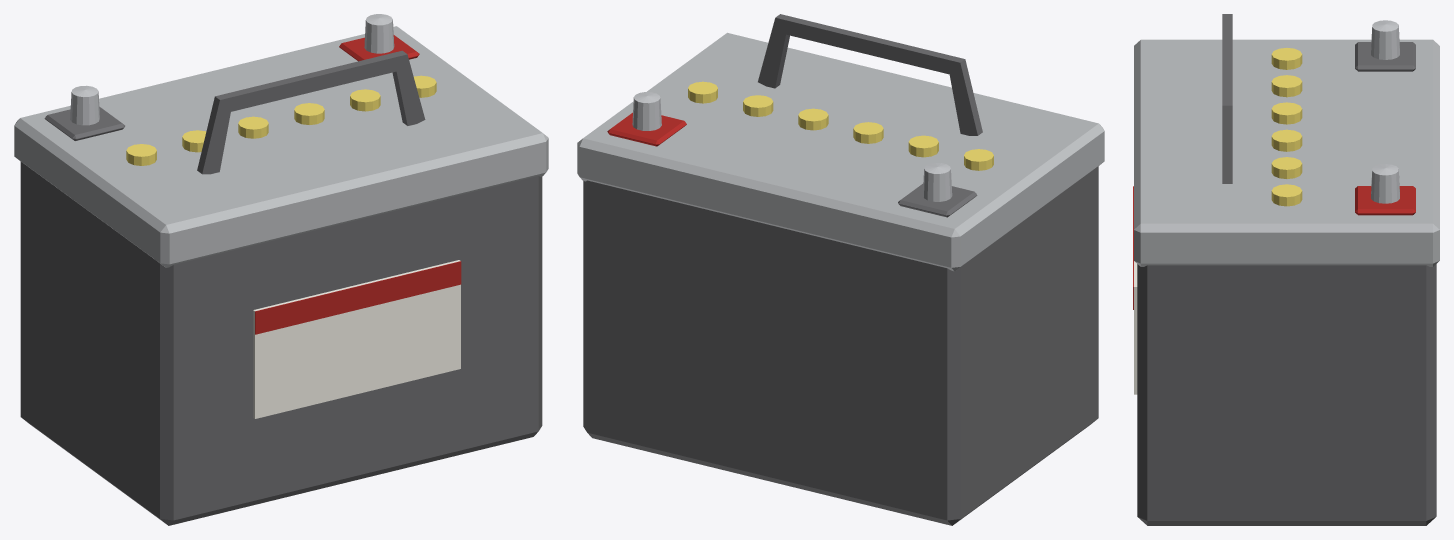
File: bateria_carro.glb
3 renders of one model, left to right at view 1: azimuth 30°, elevation 25°; view 2: azimuth 150°, elevation 25°; view 3: azimuth 270°, elevation 25°, orthographic.
Parts seen in each view (by area): view 1: bateria_carro_plastico_preto, bateria_carro_plastico_cinza, bateria_carro_papel, bateria_carro_plastico_vermelho, bateria_carro_plastico_amarelo, bateria_carro_aco; view 2: bateria_carro_plastico_preto, bateria_carro_plastico_cinza, bateria_carro_plastico_amarelo, bateria_carro_aco, bateria_carro_plastico_vermelho; view 3: bateria_carro_plastico_preto, bateria_carro_plastico_cinza, bateria_carro_plastico_amarelo, bateria_carro_aco, bateria_carro_plastico_vermelho, bateria_carro_papel.
Boxes of the visible parts, x1,y1,x2,y2 form: bateria_carro_plastico_preto: (20, 50, 542, 525); bateria_carro_plastico_cinza: (14, 26, 548, 267); bateria_carro_papel: (253, 260, 460, 418); bateria_carro_plastico_vermelho: (255, 35, 461, 334); bateria_carro_plastico_amarelo: (126, 75, 436, 165); bateria_carro_aco: (70, 14, 394, 125); bateria_carro_plastico_preto: (583, 14, 1098, 525); bateria_carro_plastico_cinza: (577, 32, 1104, 271); bateria_carro_plastico_amarelo: (688, 81, 993, 170); bateria_carro_aco: (632, 92, 952, 201); bateria_carro_plastico_vermelho: (607, 112, 686, 146); bateria_carro_plastico_preto: (1137, 14, 1436, 525); bateria_carro_plastico_cinza: (1134, 39, 1439, 266); bateria_carro_plastico_amarelo: (1271, 48, 1302, 206); bateria_carro_aco: (1371, 20, 1399, 203); bateria_carro_plastico_vermelho: (1133, 186, 1415, 309); bateria_carro_papel: (1134, 261, 1137, 394).
Bounding box in the file's own units: 0.264 × 0.2447 × 0.1805.
